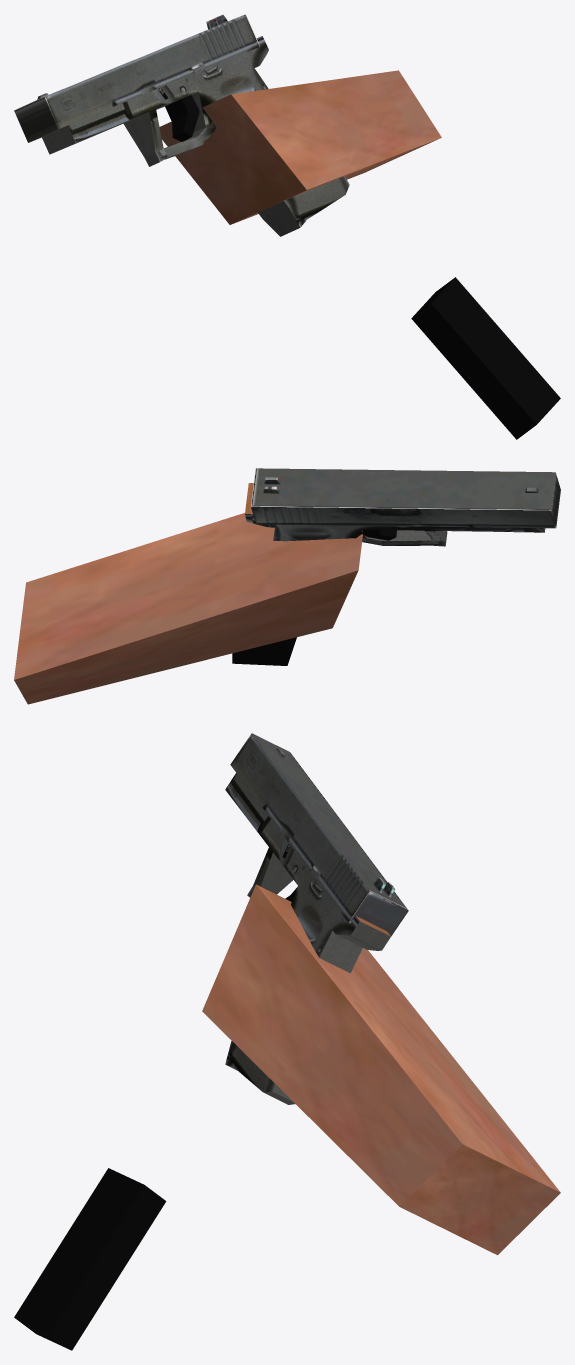
File: pistol_000027.obj
3 views of the same model, one above another, from view 1: azimuth 30°, elevation 25°; view 2: azimuth 150°, elevation 25°; view 3: azimuth 270°, elevation 25° (orthographic). The views are drawn at different scales.
Visible parts, largest first — view 1: Cube, Cube.002, Cube.001, Cube.003; view 2: Cube, Cube.001, Cube.002, Cube.003; view 3: Cube, Cube.001, Cube.002.
Boxes of the visible parts, <box> form: Cube: <box>42,36,441,236</box>; Cube.002: <box>411,277,560,439</box>; Cube.001: <box>14,14,259,142</box>; Cube.003: <box>165,95,199,141</box>; Cube: <box>14,483,545,704</box>; Cube.001: <box>251,468,560,528</box>; Cube.002: <box>232,637,296,665</box>; Cube.003: <box>362,530,396,540</box>; Cube: <box>202,773,560,1255</box>; Cube.001: <box>230,733,408,936</box>; Cube.002: <box>14,1168,166,1350</box>.
Bounding box in the file's own units: 1.72 × 1.25 × 1.55.
